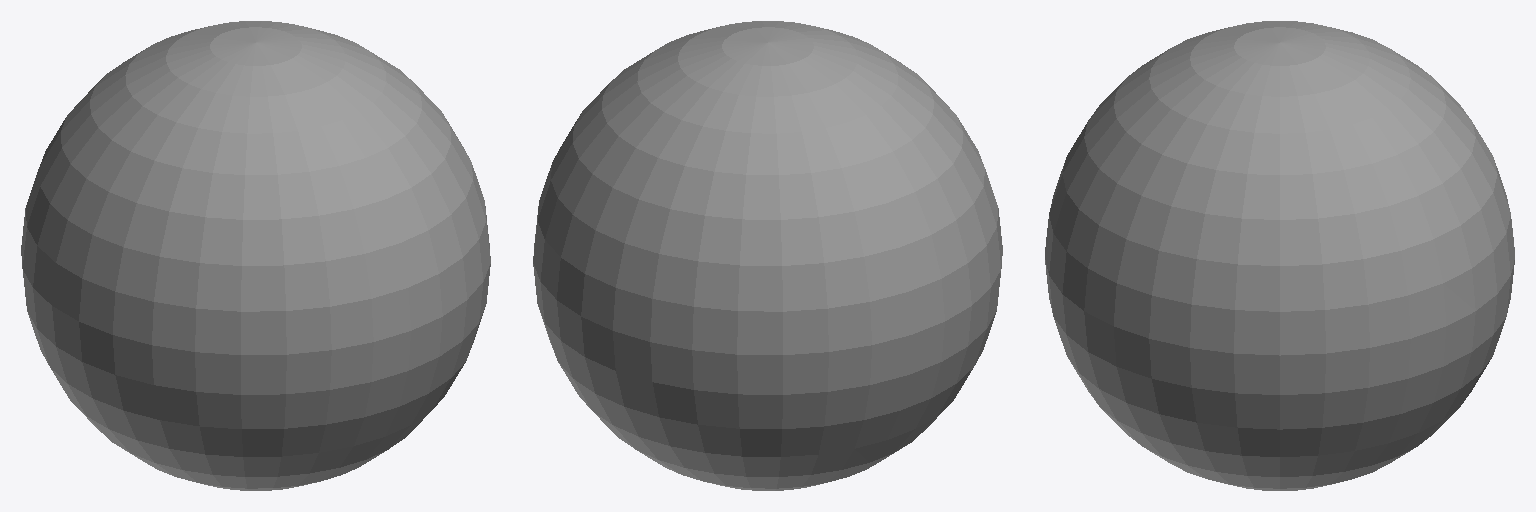
The model's file is blue_marble.obj.
3 views of the same model, side by side, from view 1: azimuth 30°, elevation 25°; view 2: azimuth 150°, elevation 25°; view 3: azimuth 270°, elevation 25° (orthographic).
Visible parts, largest first — view 1: Sphere_Sphere.001; view 2: Sphere_Sphere.001; view 3: Sphere_Sphere.001.
Boxes of the visible parts, box(x1,y1,x2,y2) form: Sphere_Sphere.001: box(21, 21, 490, 490); Sphere_Sphere.001: box(533, 21, 1002, 490); Sphere_Sphere.001: box(1045, 21, 1514, 490).
Bounding box in the file's own units: 0.056 × 0.056 × 0.056.